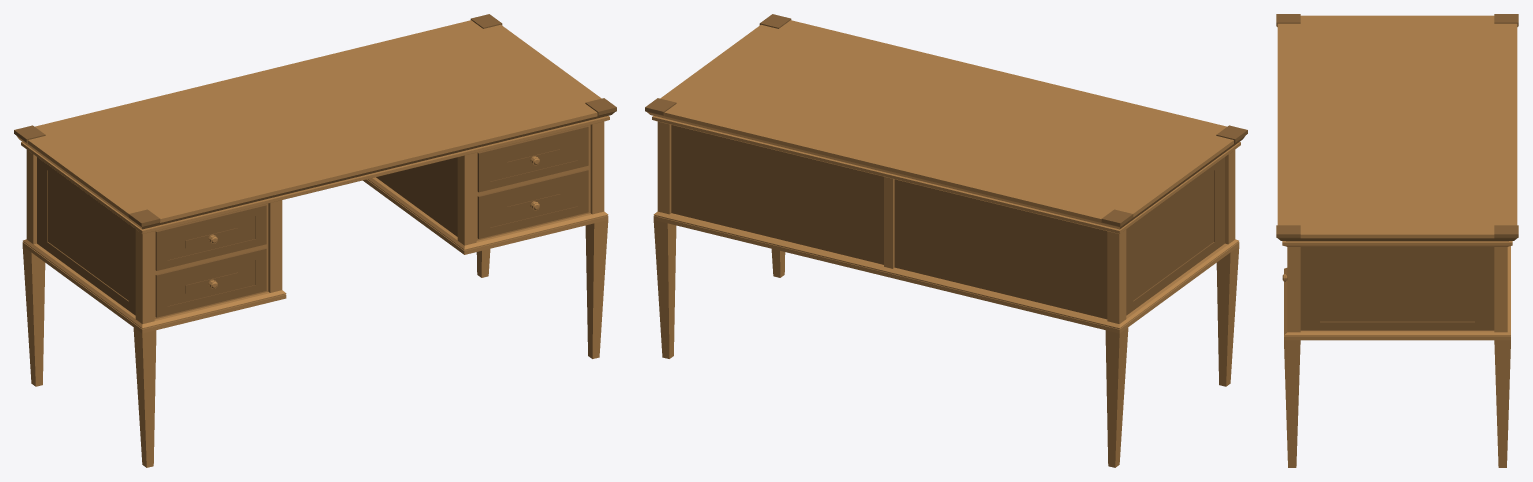
Rendered from Desk.glb.
The picture shows the model from 3 angles, left to right: view 1: azimuth 30°, elevation 25°; view 2: azimuth 150°, elevation 25°; view 3: azimuth 270°, elevation 25°; orthographic projection. The views are drawn at different scales.
Parts seen in each view (by area): view 1: Desk; view 2: Desk; view 3: Desk.
Boxes of the visible parts, x1,y1,x2,y2 form: Desk: [14, 14, 616, 467]; Desk: [645, 14, 1247, 467]; Desk: [1276, 14, 1518, 467].
Bounding box in the file's own units: 1.82 × 0.9225 × 0.8466.
